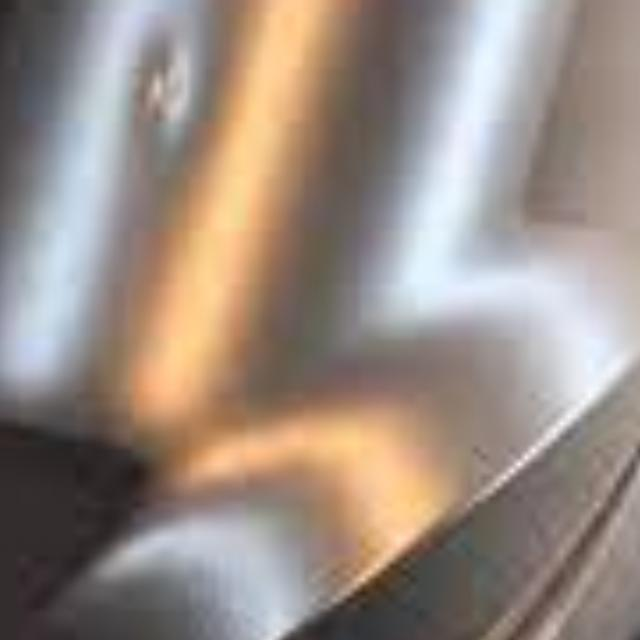dents: (102, 38, 224, 180)
